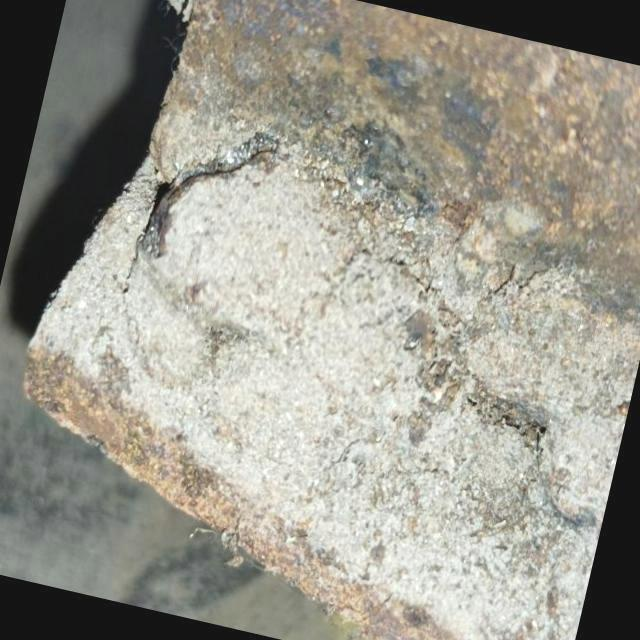defect: (123, 137, 280, 284)
